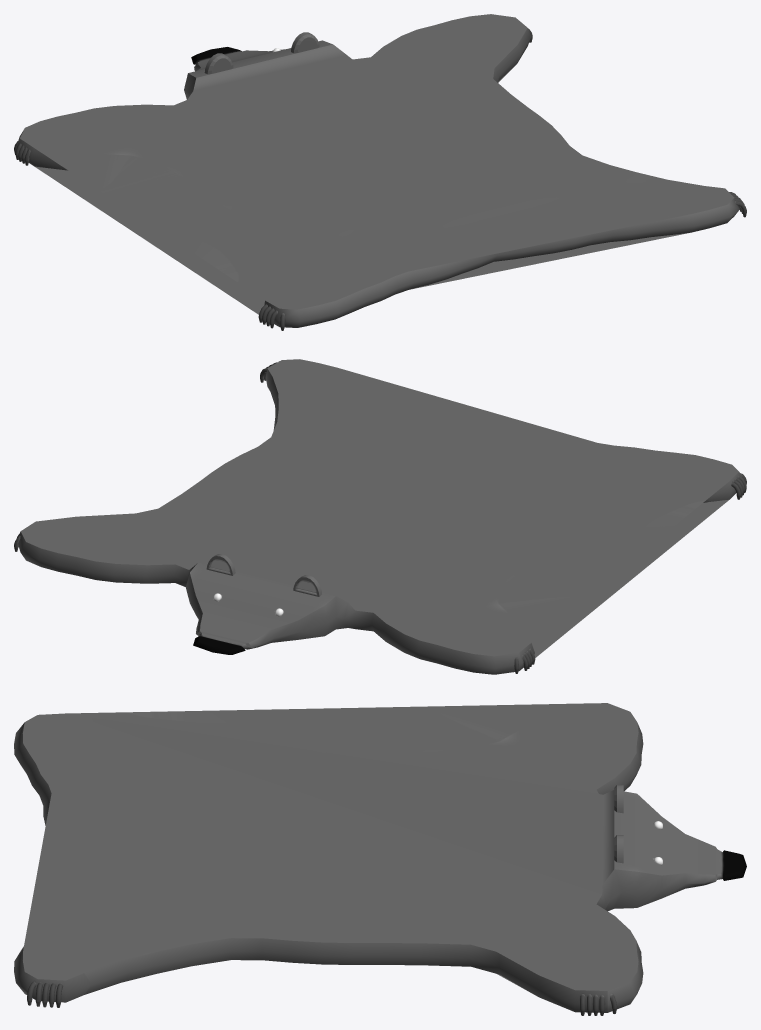
Rendered from bear rug textured.fbx.
3 views of the same model, one above another, from view 1: azimuth 30°, elevation 25°; view 2: azimuth 150°, elevation 25°; view 3: azimuth 270°, elevation 25° (orthographic). The views are drawn at different scales.
Visible parts, largest first — view 1: pasted__pasted__pCylinder15; view 2: pasted__pasted__pCylinder15; view 3: pasted__pasted__pCylinder15.
Part boxes in pixels (left/top/right/bottom): pasted__pasted__pCylinder15: left=14, top=14, right=746, bottom=330; pasted__pasted__pCylinder15: left=14, top=359, right=746, bottom=674; pasted__pasted__pCylinder15: left=14, top=703, right=746, bottom=1015.
Bounding box in the file's own units: 28.82 × 2.63 × 30.22.
1 material, 1 textured.
